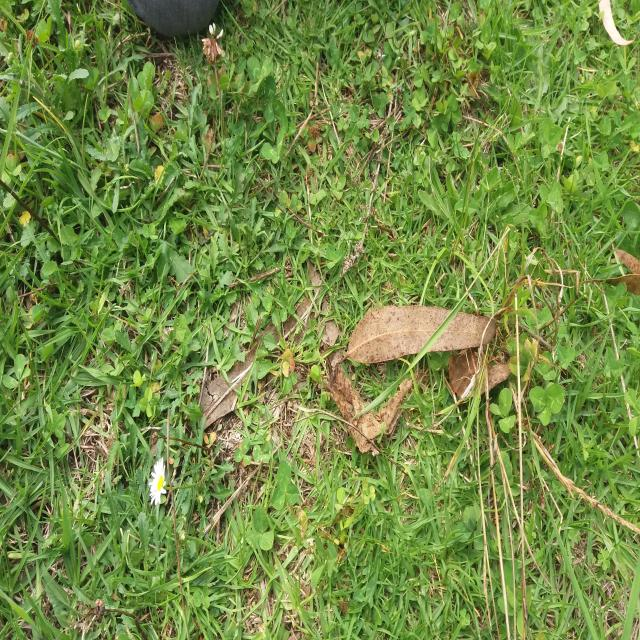Four Leaf Clover: (252, 441, 270, 463), (388, 463, 412, 479)
